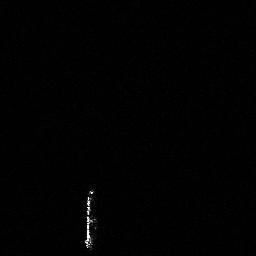ship: (84, 185, 99, 252)
